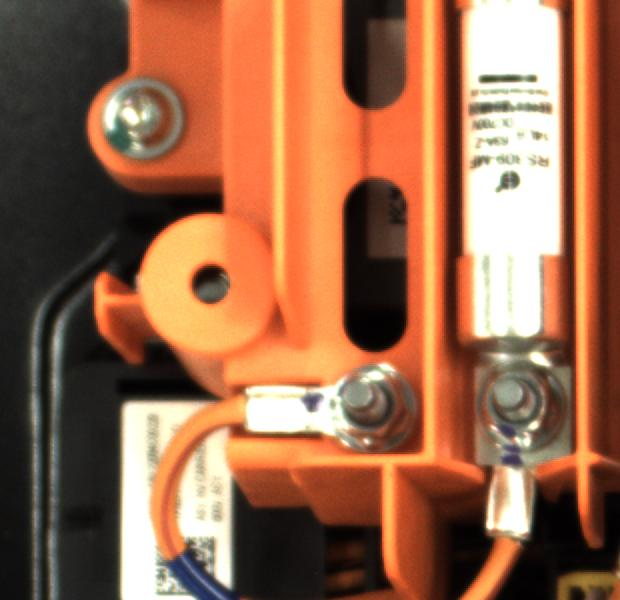screw_m: (82, 64, 201, 173)
screw_s: (302, 360, 416, 456), (471, 364, 566, 455)
